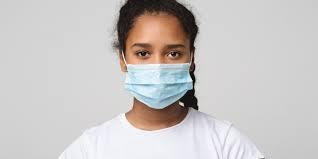mask: (122, 59, 194, 110)
